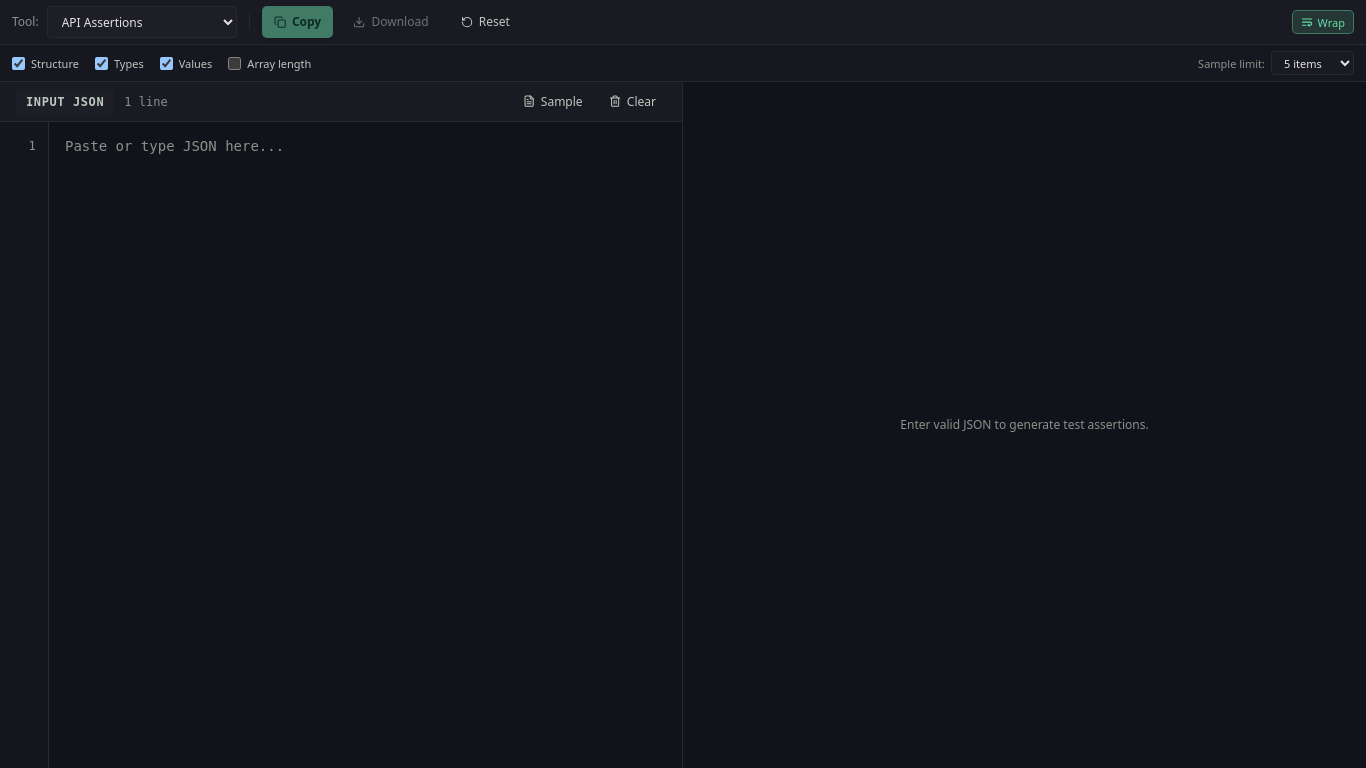
Test case: Testing Feature Component Suite › switches tool to Playwright Assertions and updates output
The image size is (1366, 768).
# Load sample
Click the button with test id "testing-input-sample-btn" at (553, 102), box [513,89,593,114]
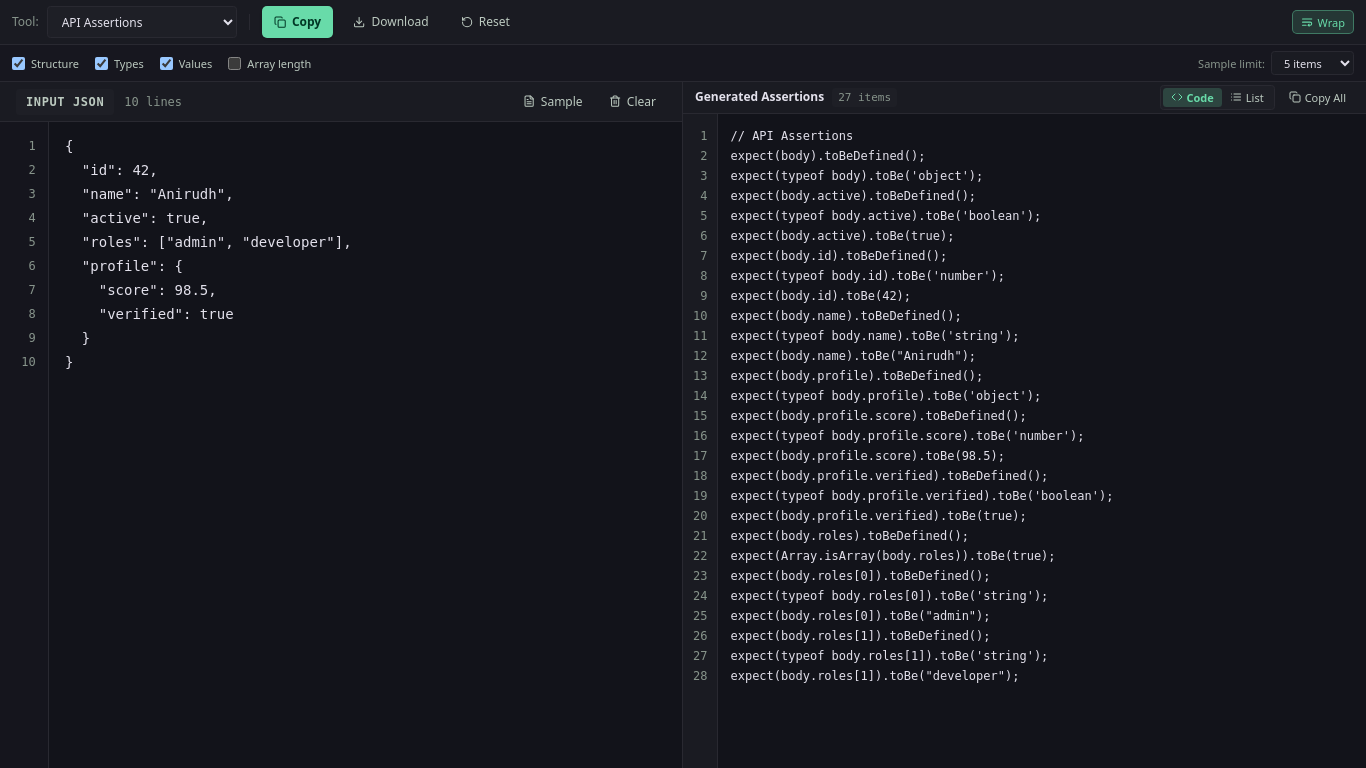
# Switch tool to Playwright
Select "Playwright Assertions" in the dropdown with test id "testing-selector" at (142, 22), box [47,6,237,38]
(page scrolled)
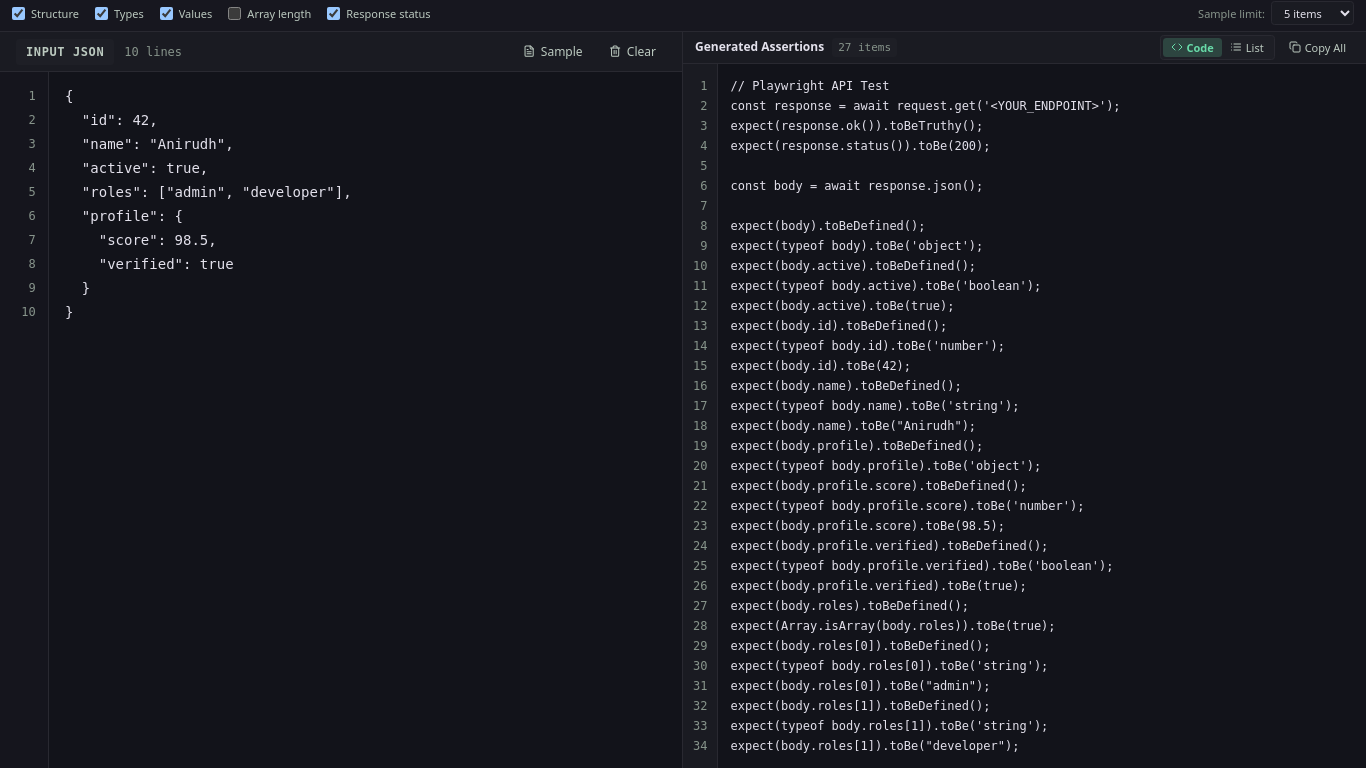
Expected: the element with test id "assertions-code-output" shows "// Playwright API Test", [730,78,1121,752]
Expected: the element with test id "assertions-code-output" shows "expect(response.ok()).toBeTruthy();", [730,78,1121,752]
